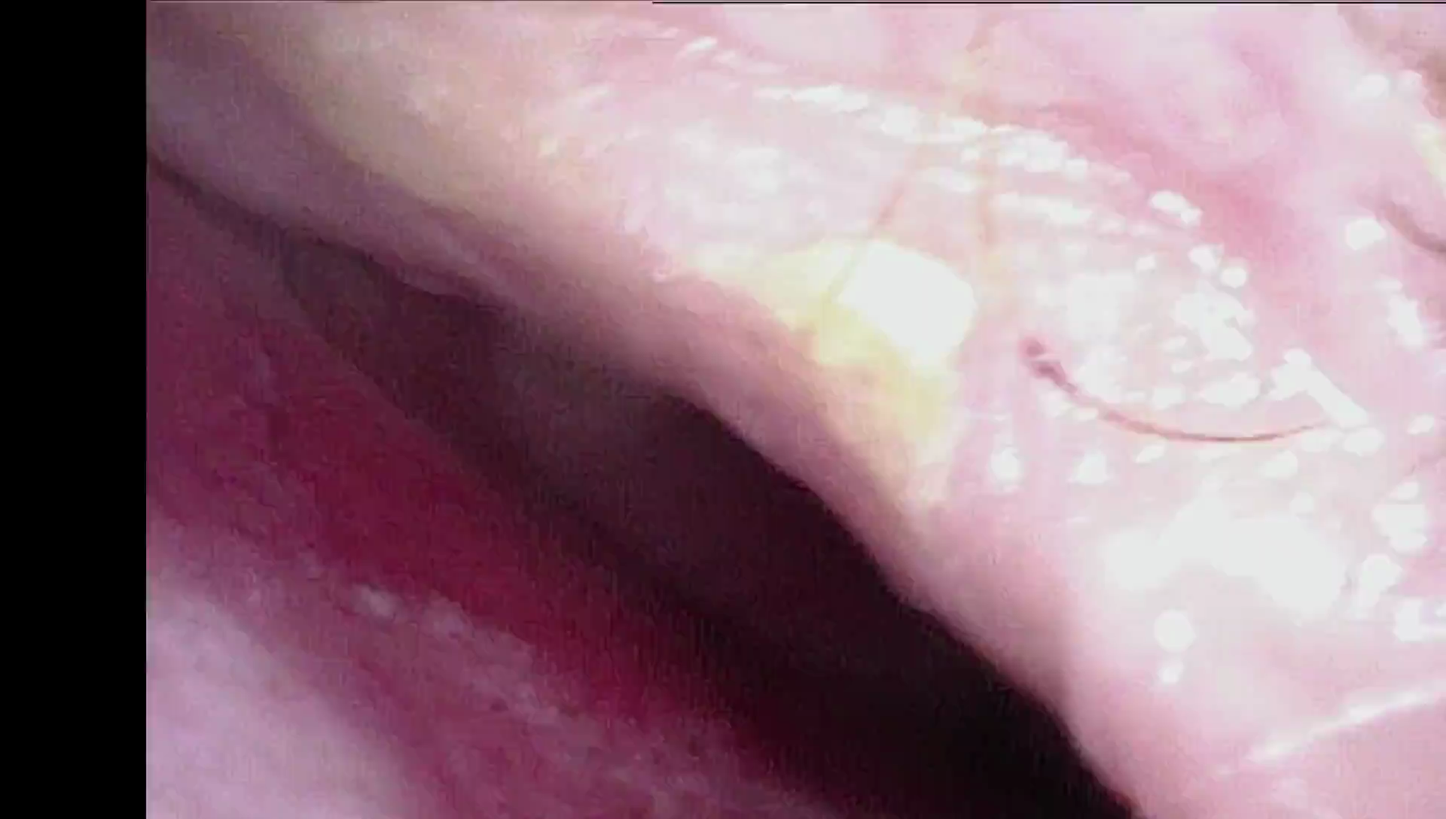close_wall: (344, 10, 1446, 672), (152, 553, 454, 819)
next: (760, 565, 1130, 819)
